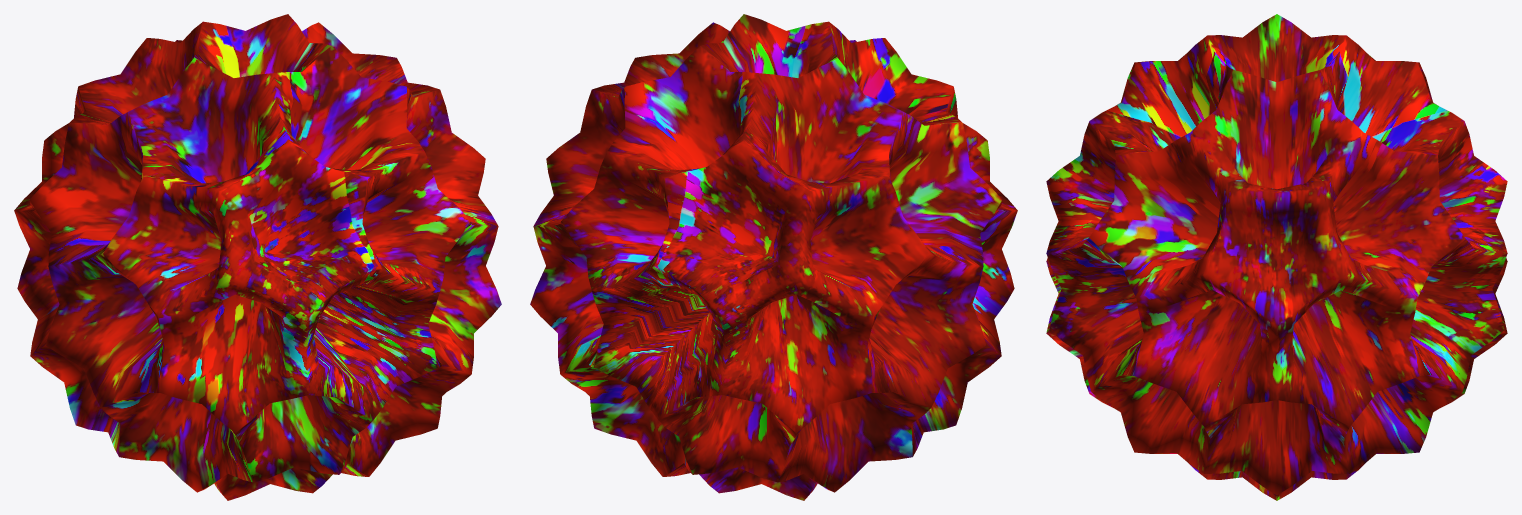
File: powerup.fbx
The picture shows the model from 3 angles, left to right: view 1: azimuth 30°, elevation 25°; view 2: azimuth 150°, elevation 25°; view 3: azimuth 270°, elevation 25°; orthographic projection.
Visible parts, largest first — view 1: Icosphere; view 2: Icosphere; view 3: Icosphere.
Boxes of the visible parts, x1,y1,x2,y2 form: Icosphere: (14,14,501,500); Icosphere: (530,14,1017,500); Icosphere: (1046,14,1507,500).
Bounding box in the file's own units: 174 × 169 × 166.
Materials: 1 (1 with a texture image).
